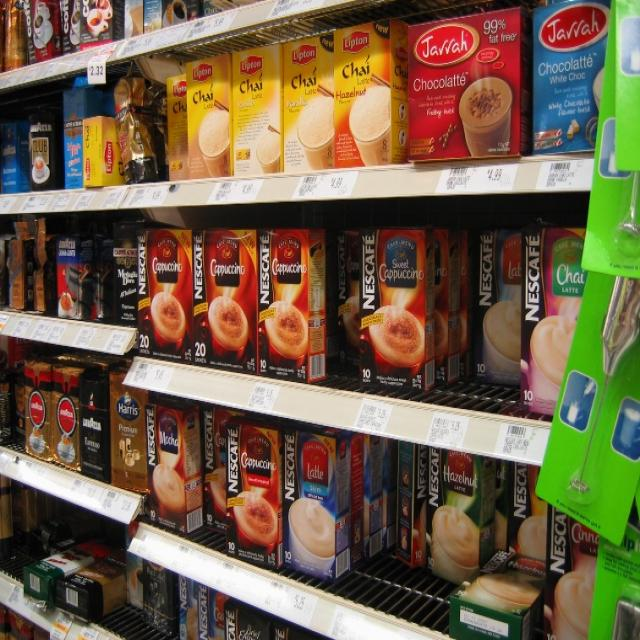q16: (356, 226, 430, 394), (256, 239, 326, 387), (228, 418, 278, 562)
